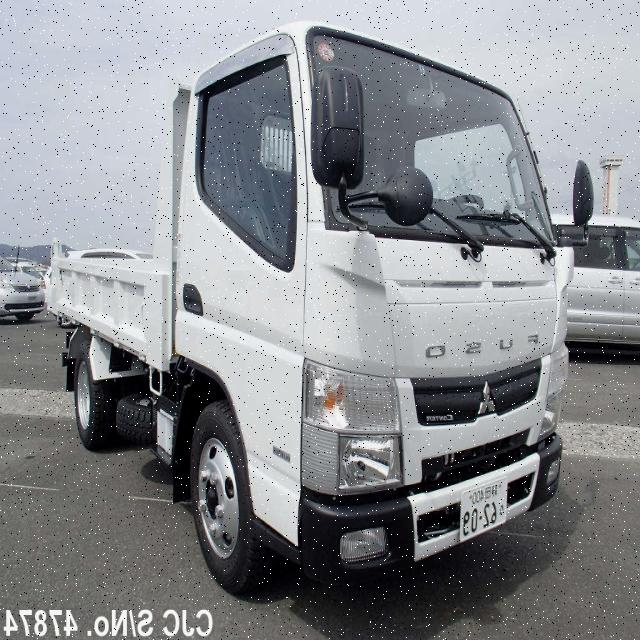truck: (53, 21, 595, 584)
